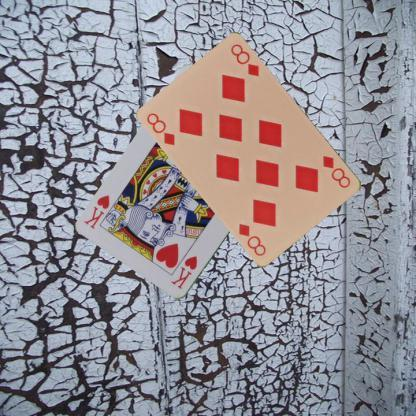8d: (320, 153, 354, 190), (144, 110, 177, 146)
Kh: (168, 253, 198, 291)
